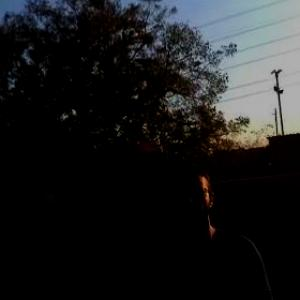follow: (144, 160, 280, 299)
